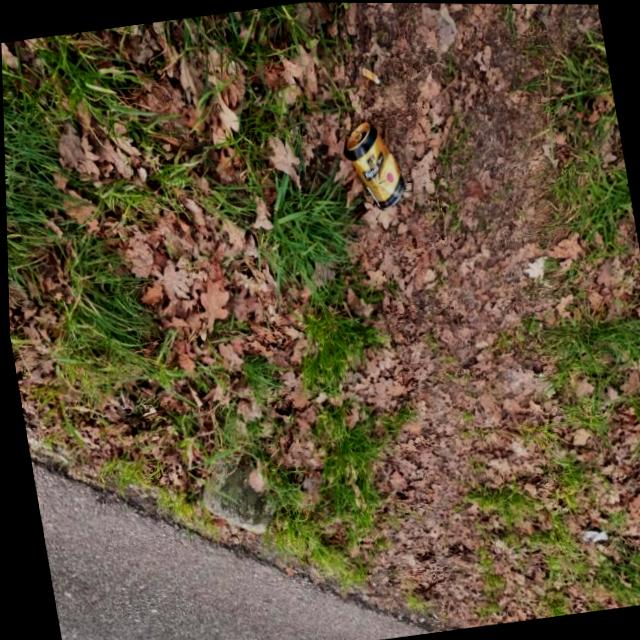Can-Metal: (337, 112, 409, 213)
